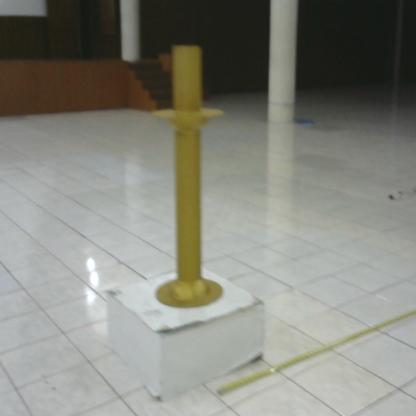pole: (147, 39, 234, 310)
